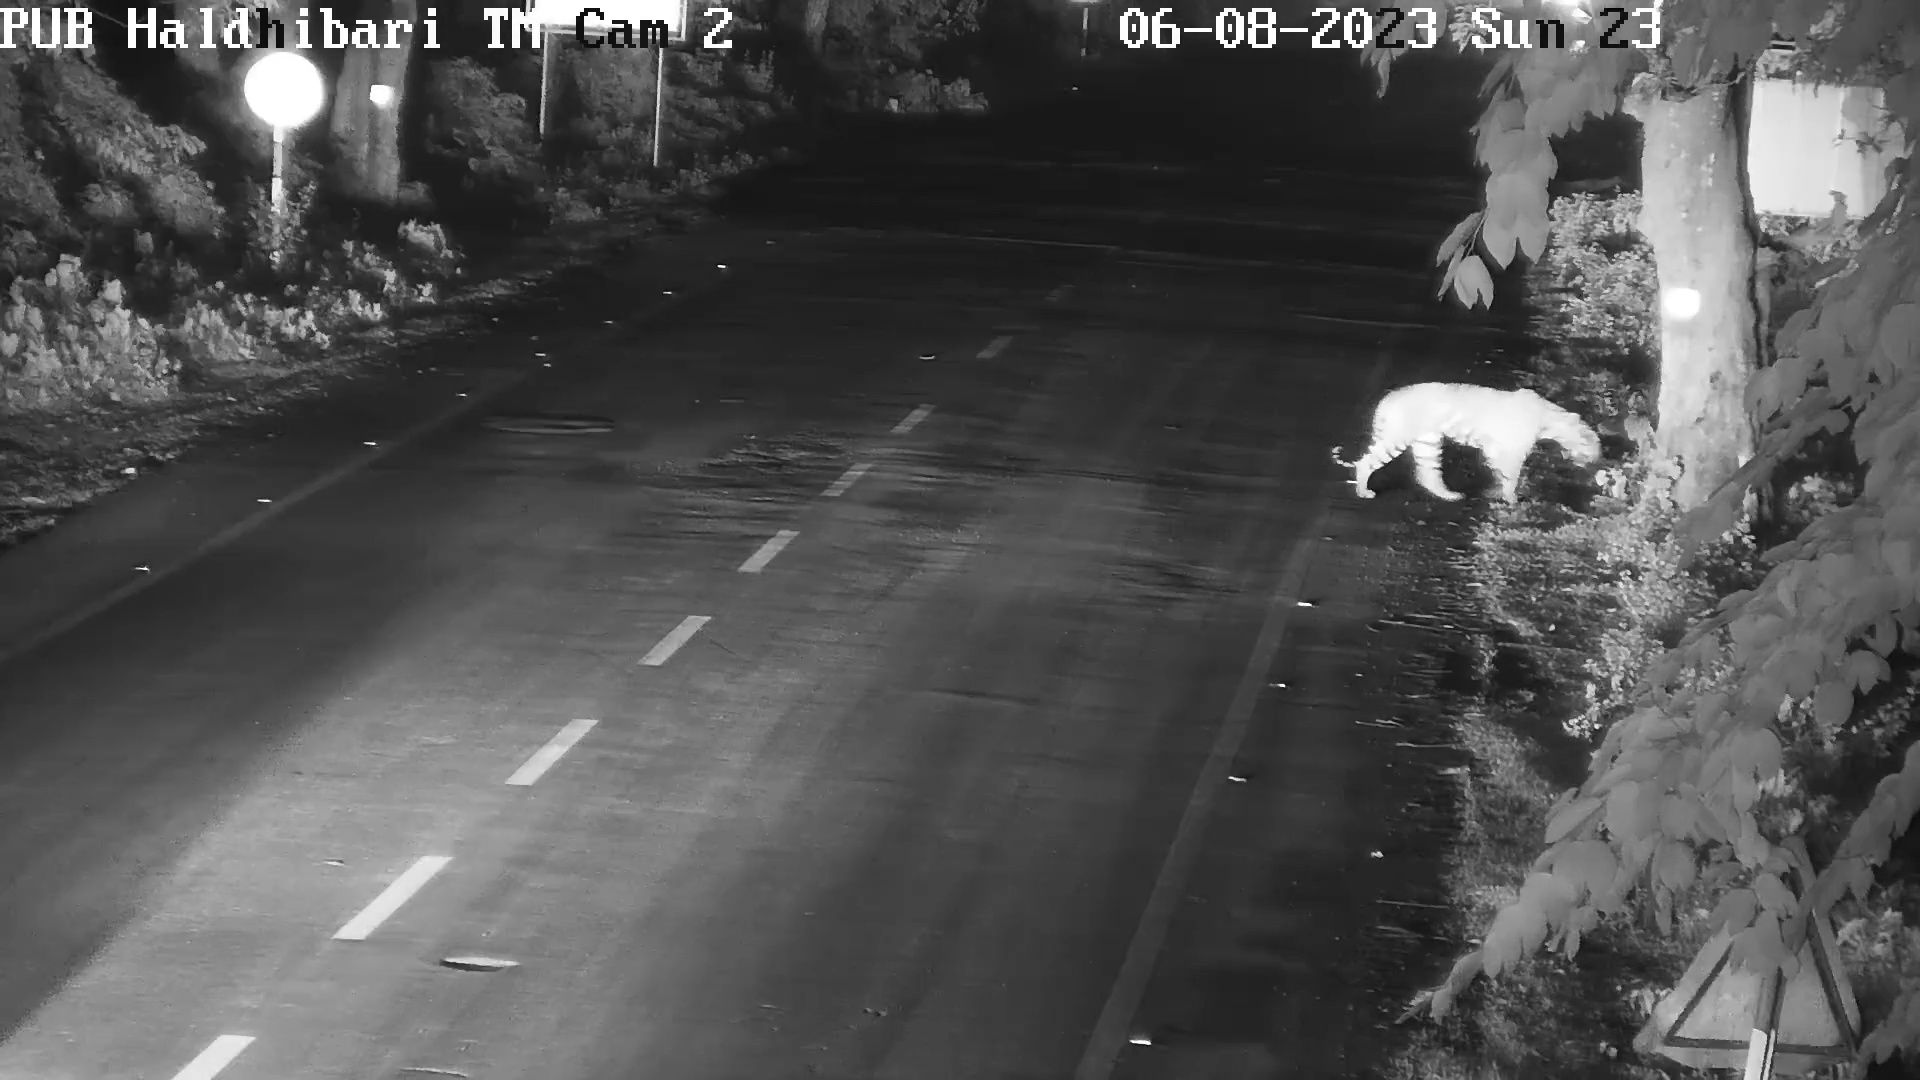tigers: (1331, 368, 1601, 514)
